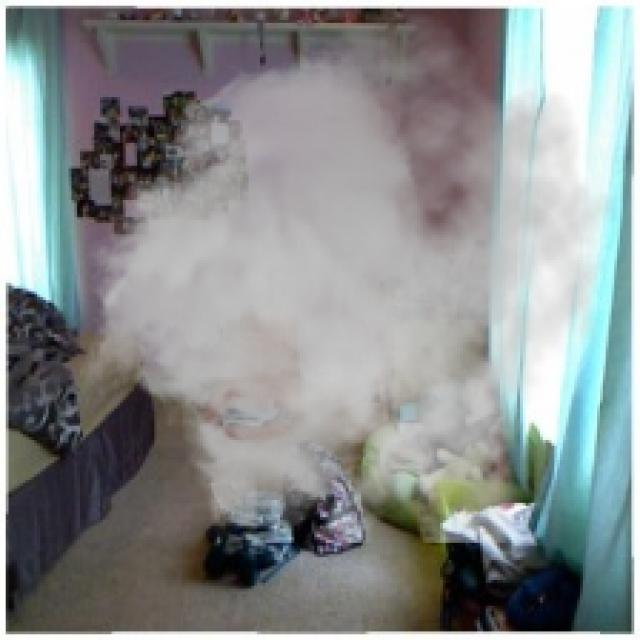smoke: (77, 11, 617, 543)
